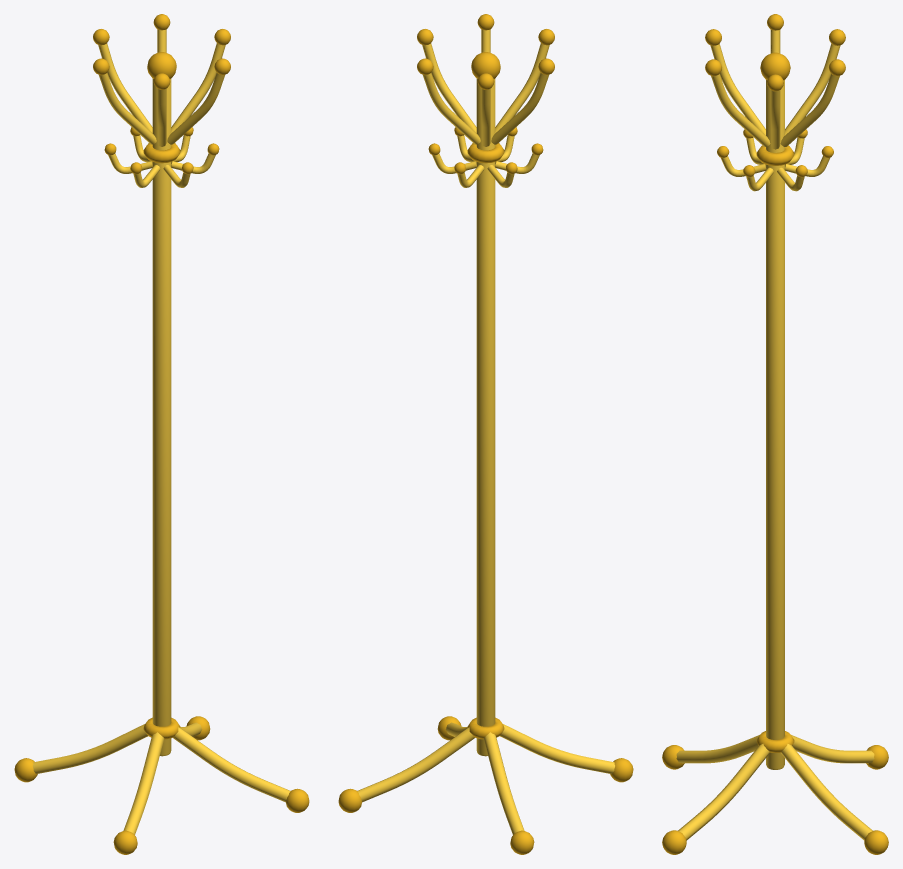
Rendered from cabideiro_pe_amarelo.glb.
The picture shows the model from 3 angles, left to right: view 1: azimuth 30°, elevation 25°; view 2: azimuth 150°, elevation 25°; view 3: azimuth 270°, elevation 25°; orthographic projection.
Visible parts, largest first — view 1: cabideiro_pe_amarelo; view 2: cabideiro_pe_amarelo; view 3: cabideiro_pe_amarelo.
Boxes of the visible parts, box(x1,y1,x2,y2) form: cabideiro_pe_amarelo: box(14, 14, 309, 854); cabideiro_pe_amarelo: box(338, 14, 633, 854); cabideiro_pe_amarelo: box(662, 14, 888, 854).
Size of the model in its own units: 0.475 by 1.77 by 0.4763.
Materials: 1 (1 with a texture image).
